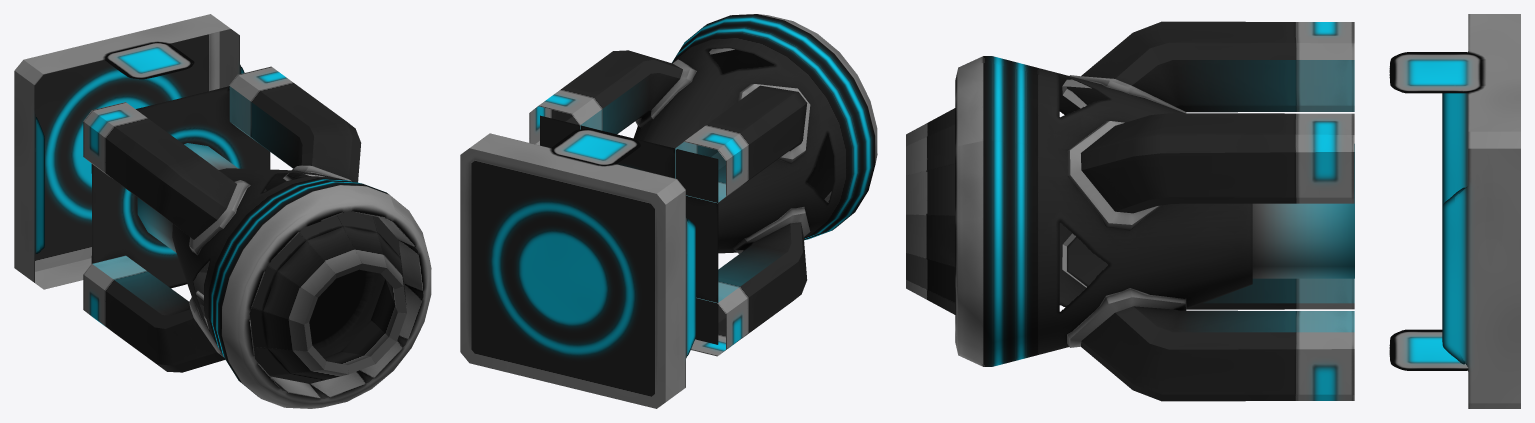
File: obj_interactive_thruster_05_pose0.fbx
3 renders of one model, left to right at view 1: azimuth 30°, elevation 25°; view 2: azimuth 150°, elevation 25°; view 3: azimuth 270°, elevation 25°, orthographic. The views are drawn at different scales.
Visible parts, largest first — view 1: obj_interactive_thruster_05_pose0; view 2: obj_interactive_thruster_05_pose0; view 3: obj_interactive_thruster_05_pose0.
Boxes of the visible parts, box(x1,y1,x2,y2) form: obj_interactive_thruster_05_pose0: box(14, 14, 431, 408); obj_interactive_thruster_05_pose0: box(460, 14, 877, 408); obj_interactive_thruster_05_pose0: box(906, 14, 1520, 408).
Bounding box in the file's own units: 2.03 × 2.03 × 4.03.
